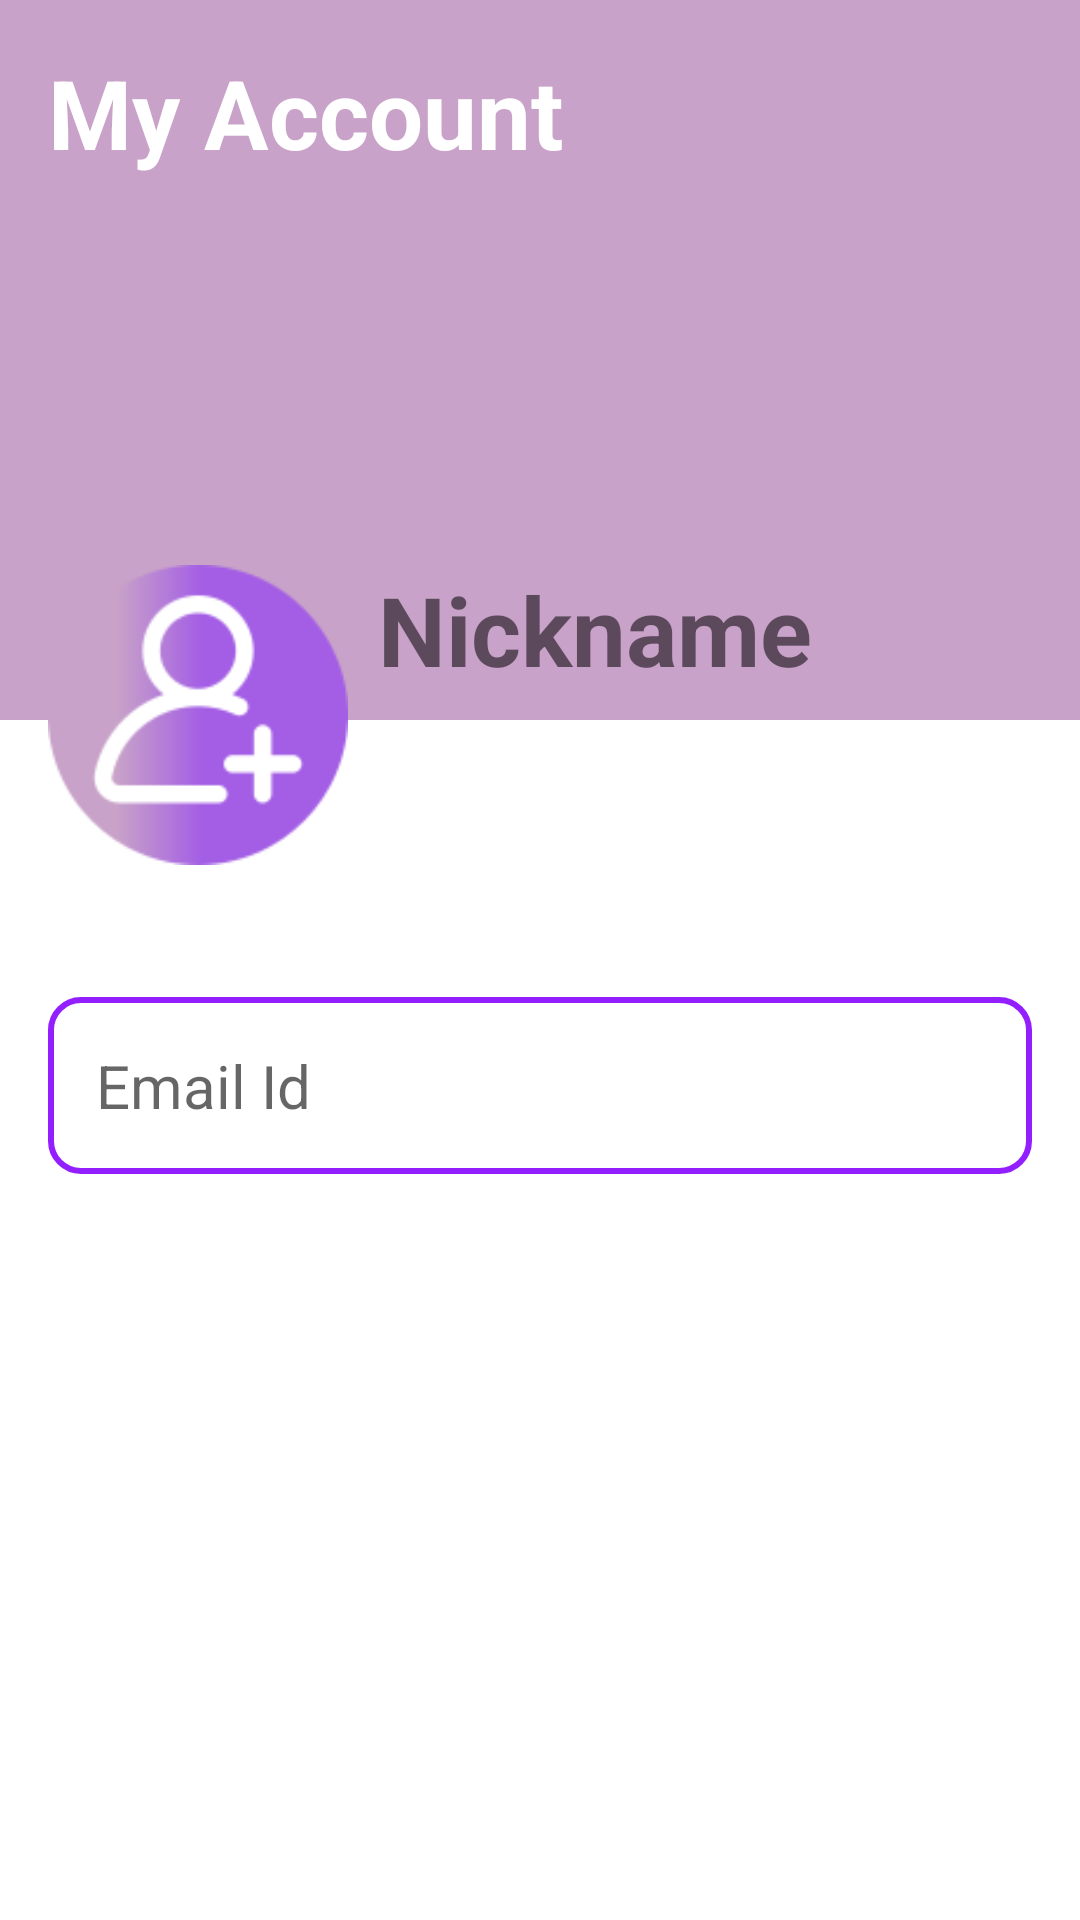

Icons on this 1080 × 1920 Android screen, each with the point to tap as [x,y]:
add: [198,715]
